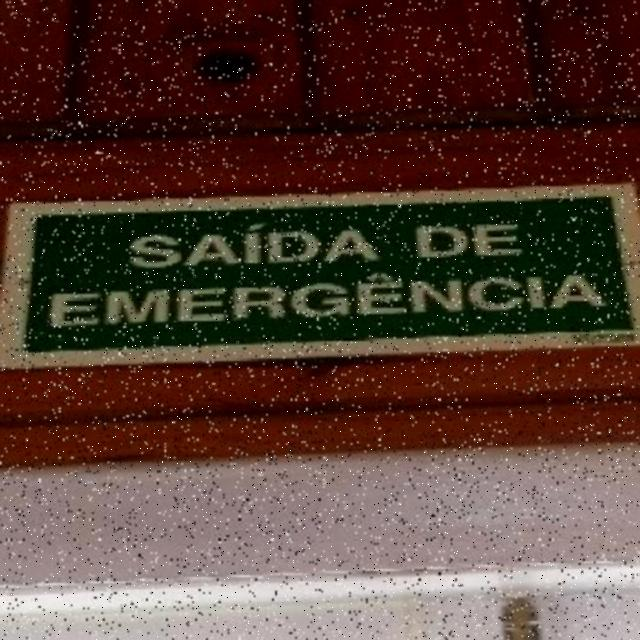emergency_exit: (0, 1, 640, 472), (1, 177, 640, 468), (2, 180, 639, 369)
